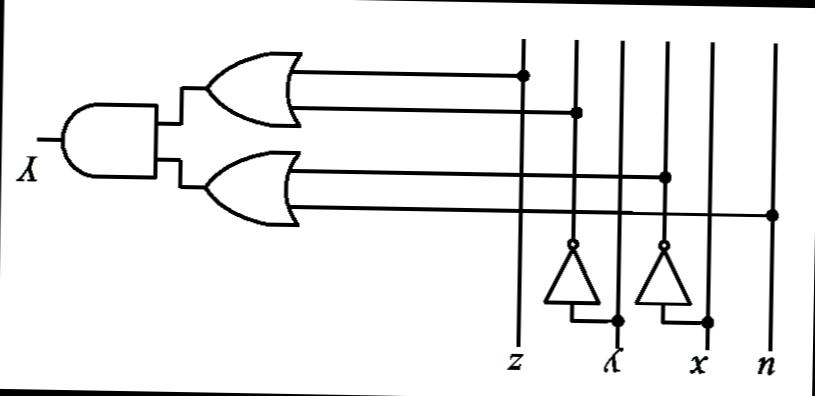and: (48, 82, 170, 198)
not: (536, 227, 610, 313), (628, 234, 699, 312)
or: (194, 140, 315, 236), (193, 44, 316, 135)
